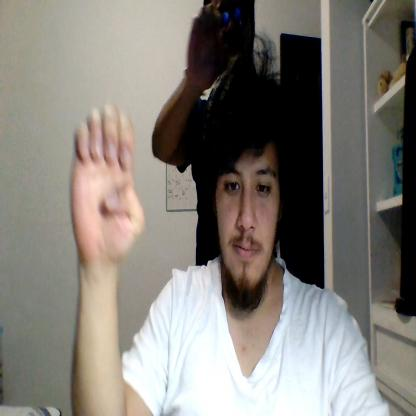E: (69, 104, 145, 263)
